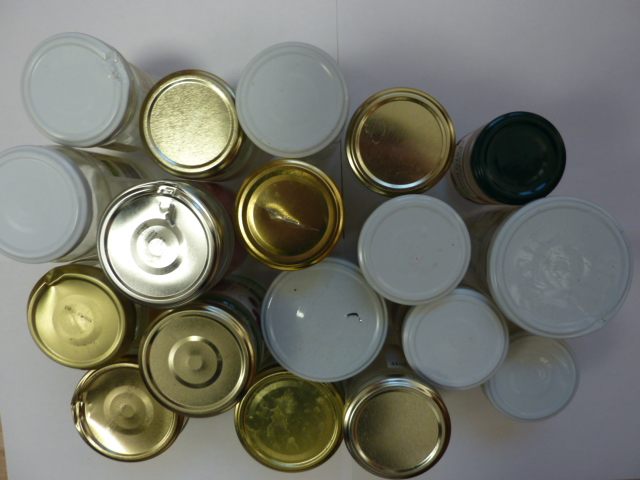intact: (483, 333, 578, 421)
